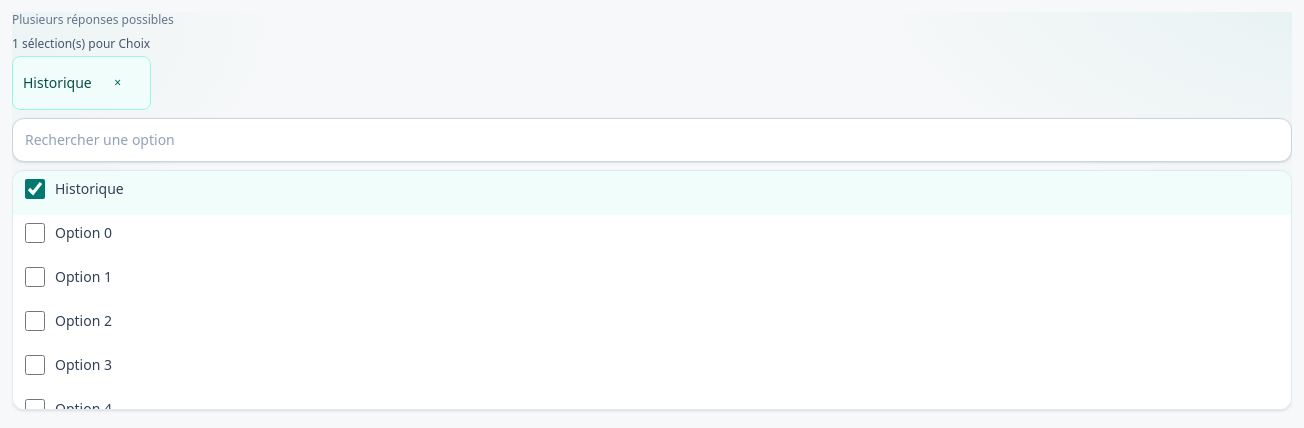
Test: search filters options without moving or dropping selections, including historical options
Click the checkbox labelled "Option 2": [35, 321] box [25,311,45,331]
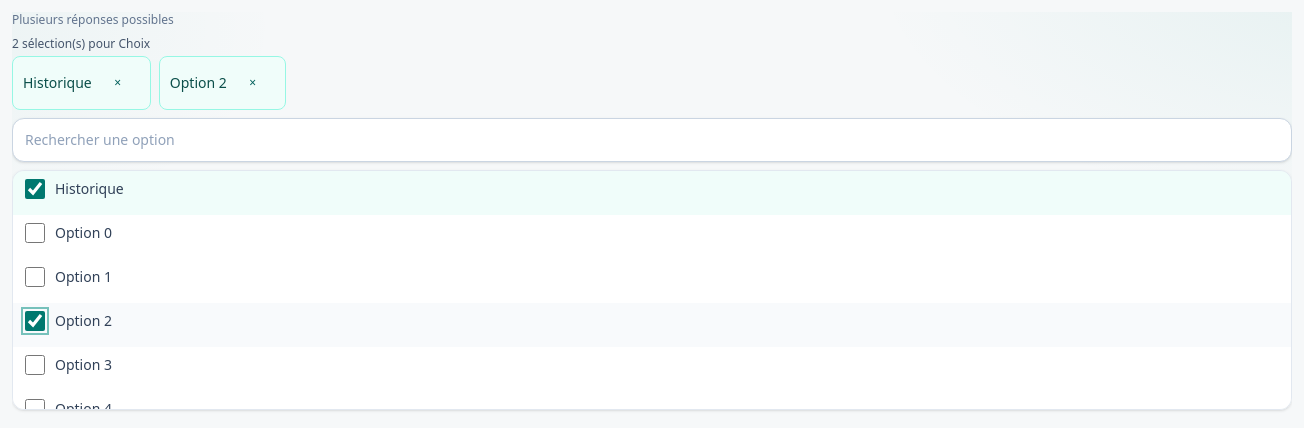
In the search field: [652, 140] box [12,118,1292,162], type "Option 7"
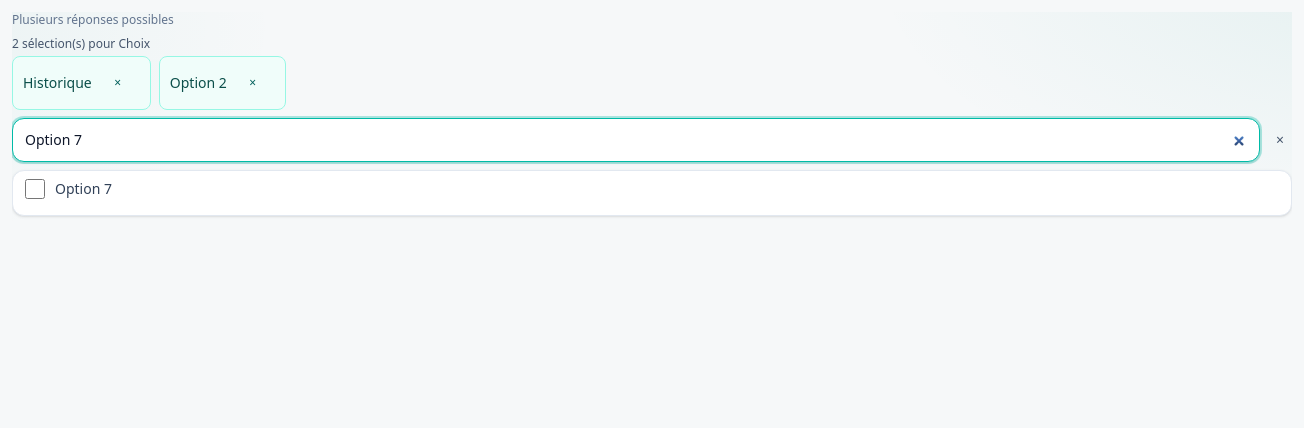
Expected: the text "Option 2" is shown, [170,73,227,93]
Expected: the text "Historique" is shown, [23,73,92,93]
Click the button named "Effacer la recherche": [1280, 140] box [1268,118,1292,162]
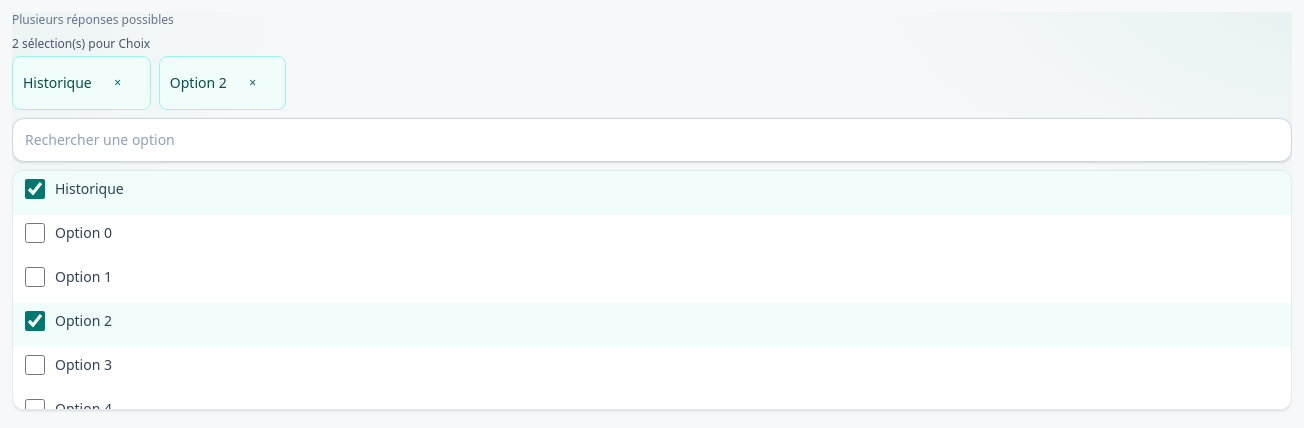
Expected: the checkbox labelled "Option 2" is checked, [25,311,45,331]
Click the button named "Retirer Historique": [118, 83] box [96,61,140,105]
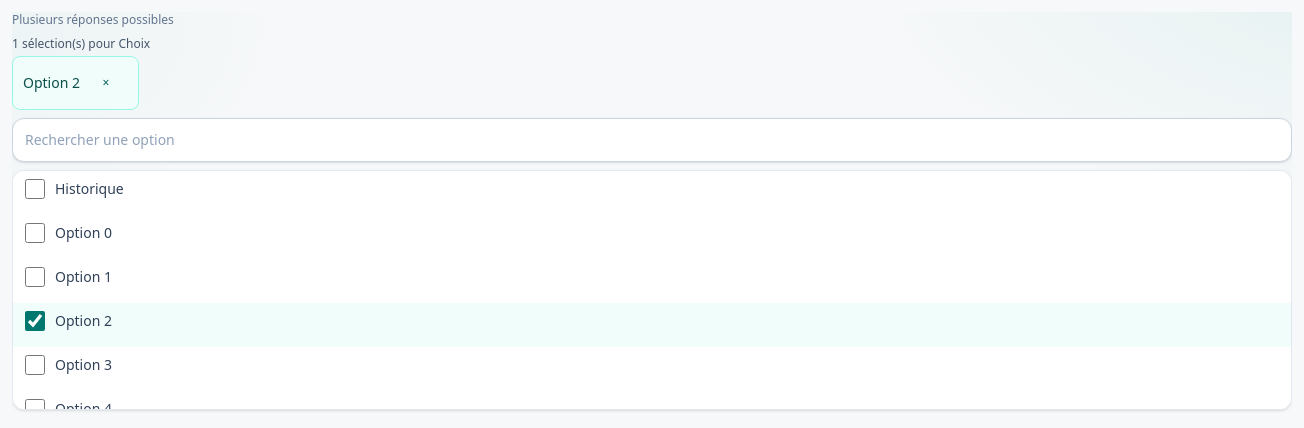
Expected: the checkbox labelled "Historique" is not checked, [25,179,45,199]
